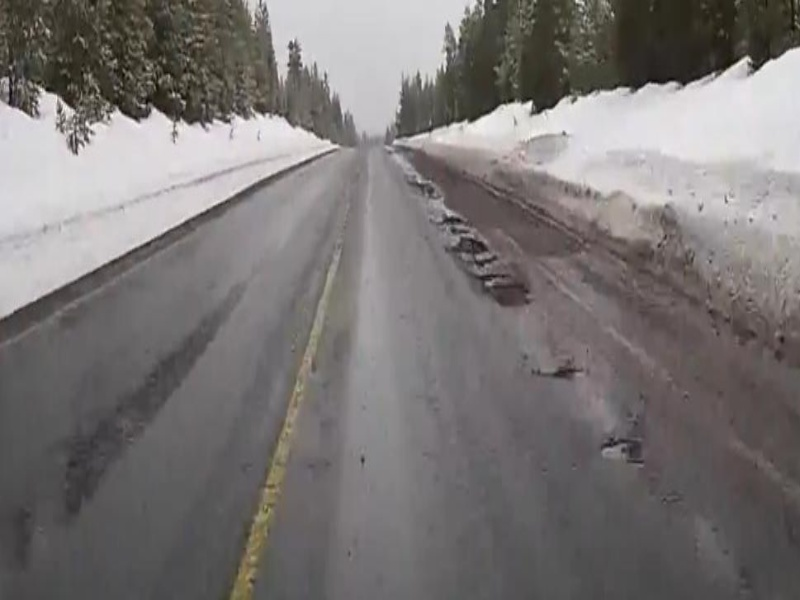pothole: (473, 270, 534, 310), (598, 437, 643, 465), (444, 233, 493, 257)
